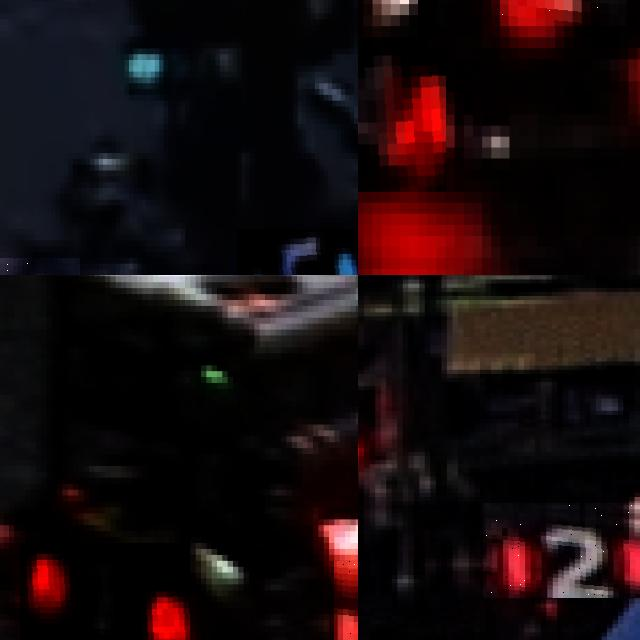B5: (237, 228, 358, 275)
R1: (19, 542, 190, 640)
R2: (482, 503, 640, 597)
R4: (358, 48, 445, 191)
